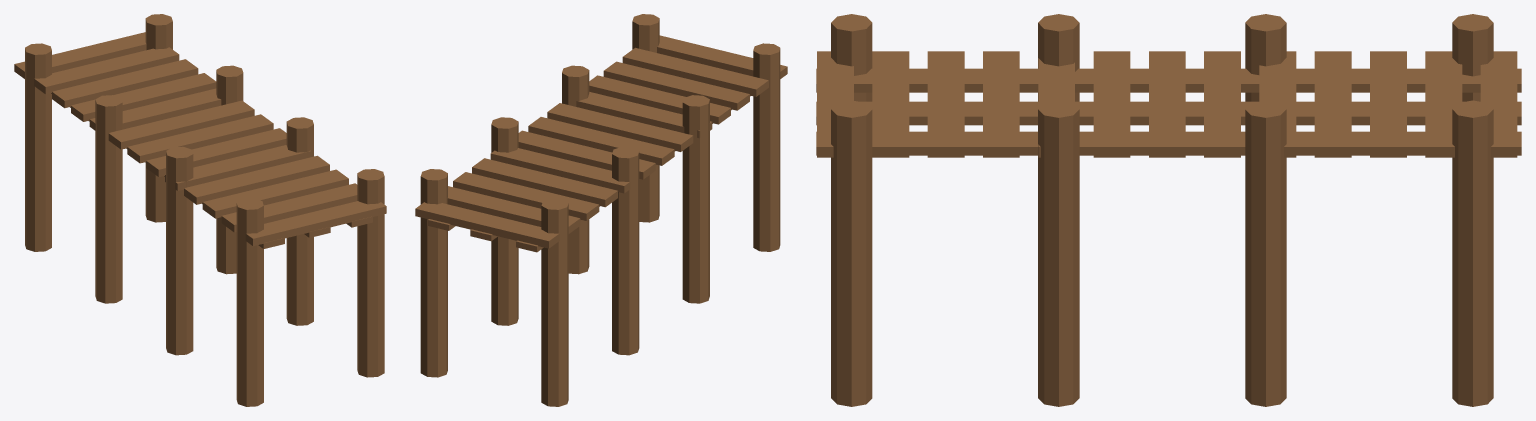
The model's file is molo.fbx.
The picture shows the model from 3 angles, left to right: view 1: azimuth 30°, elevation 25°; view 2: azimuth 150°, elevation 25°; view 3: azimuth 270°, elevation 25°; orthographic projection. The views are drawn at different scales.
Visible parts, largest first — view 1: molo; view 2: molo; view 3: molo.
Boxes of the visible parts, x1=… form: molo: x1=14, y1=14, x2=386, y2=406; molo: x1=415, y1=14, x2=787, y2=406; molo: x1=816, y1=14, x2=1521, y2=406.
Size of the model in its own units: 2.83 by 3.67 by 8.11.
